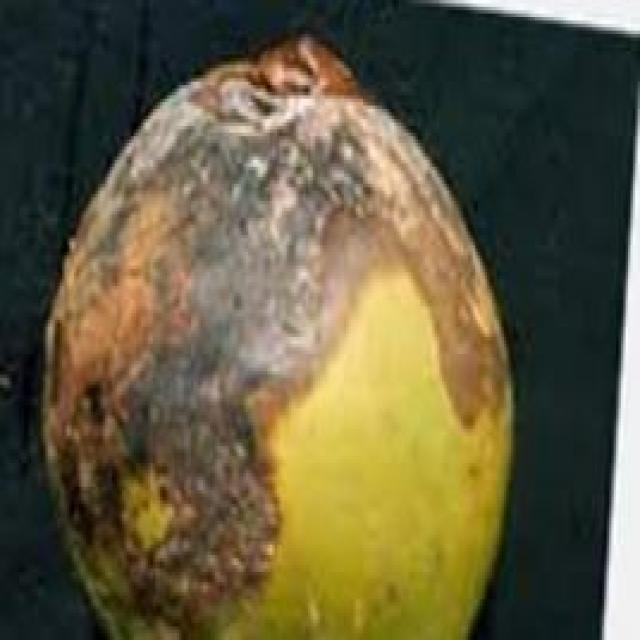damaged: (45, 37, 511, 637)
